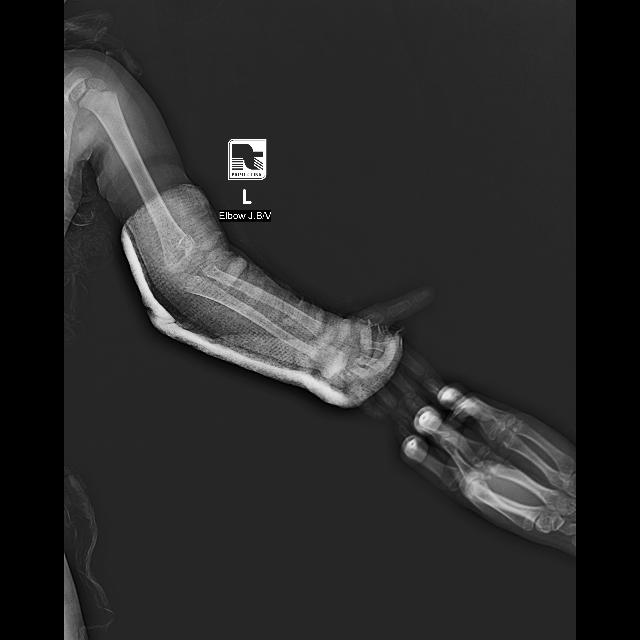Fracture: (173, 232, 200, 259)
